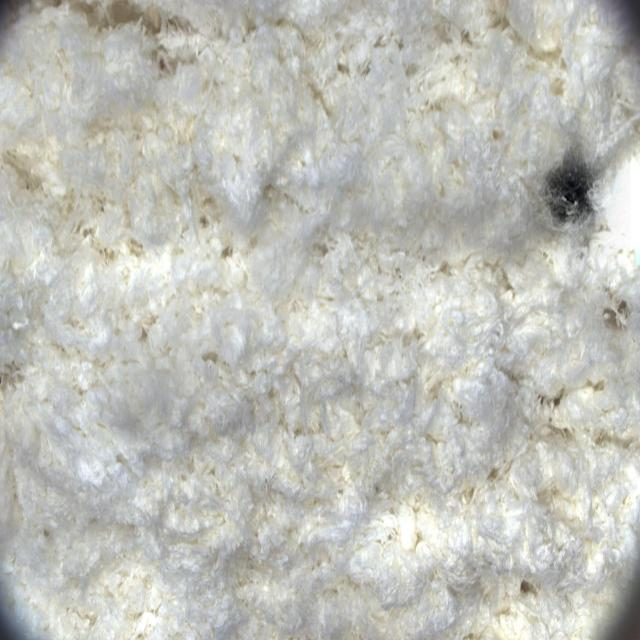dust: (520, 108, 631, 280)
